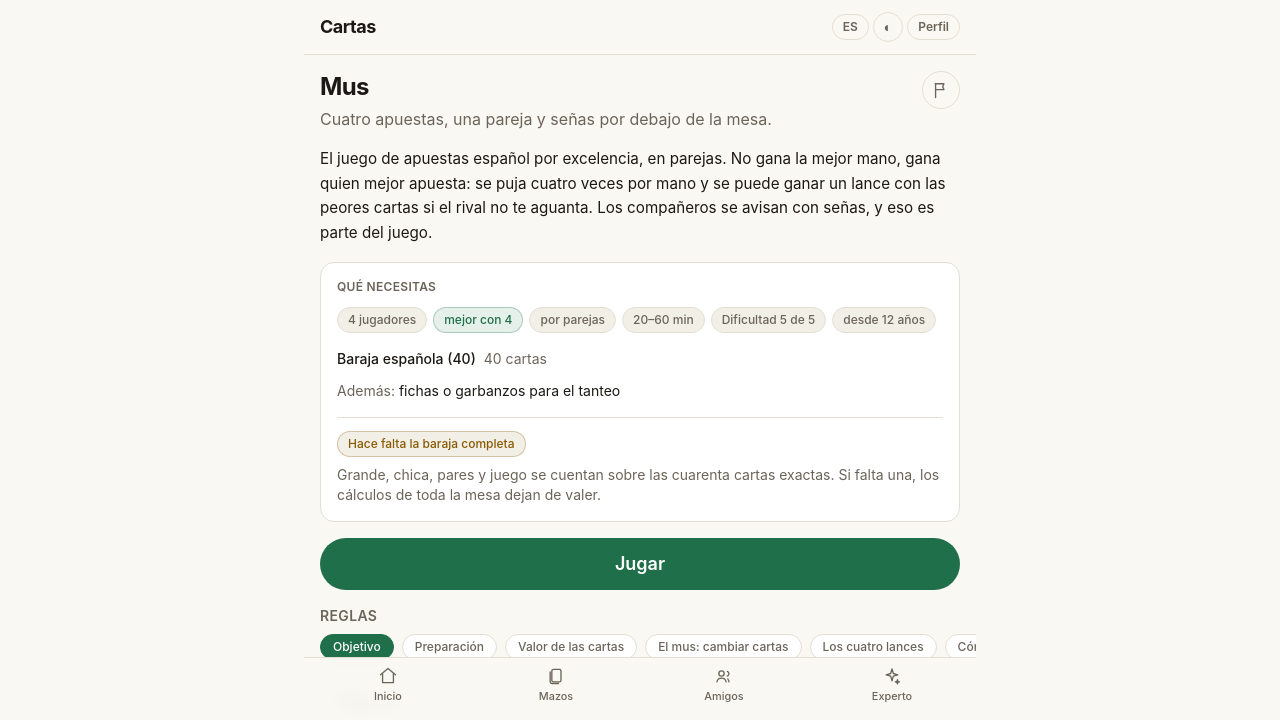
Scenario: reportar un juego › pregunta qué pasa, con motivos concretos y sitio para contarlo
The width and height of the screenshot is (1280, 720).
Click the button named "Reportar este juego": (941, 90) 922,71 -> 960,109
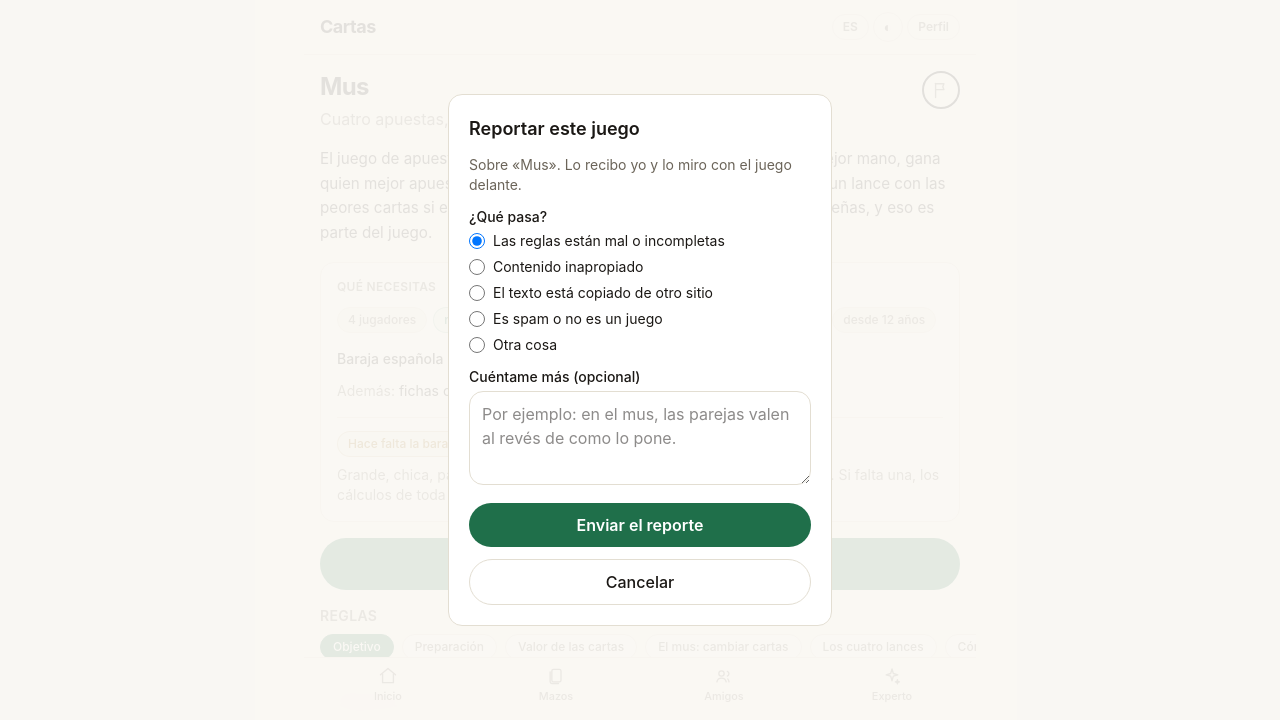
Result: the dialog is shown
Result: the text "Sobre «Mus». Lo recibo yo y lo miro con el juego delante." is shown at 469,155 -> 811,195
Result: the radio button labelled "Las reglas están mal o incompletas" is shown at 469,233 -> 485,249
